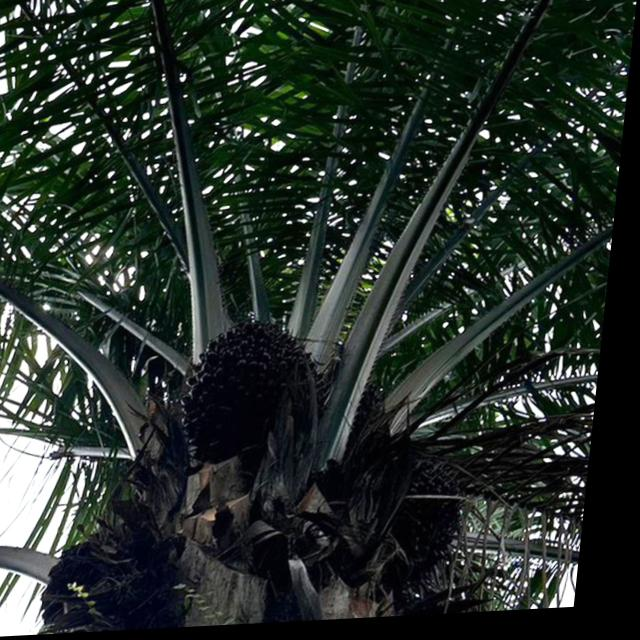ripe: (188, 308, 333, 446)
